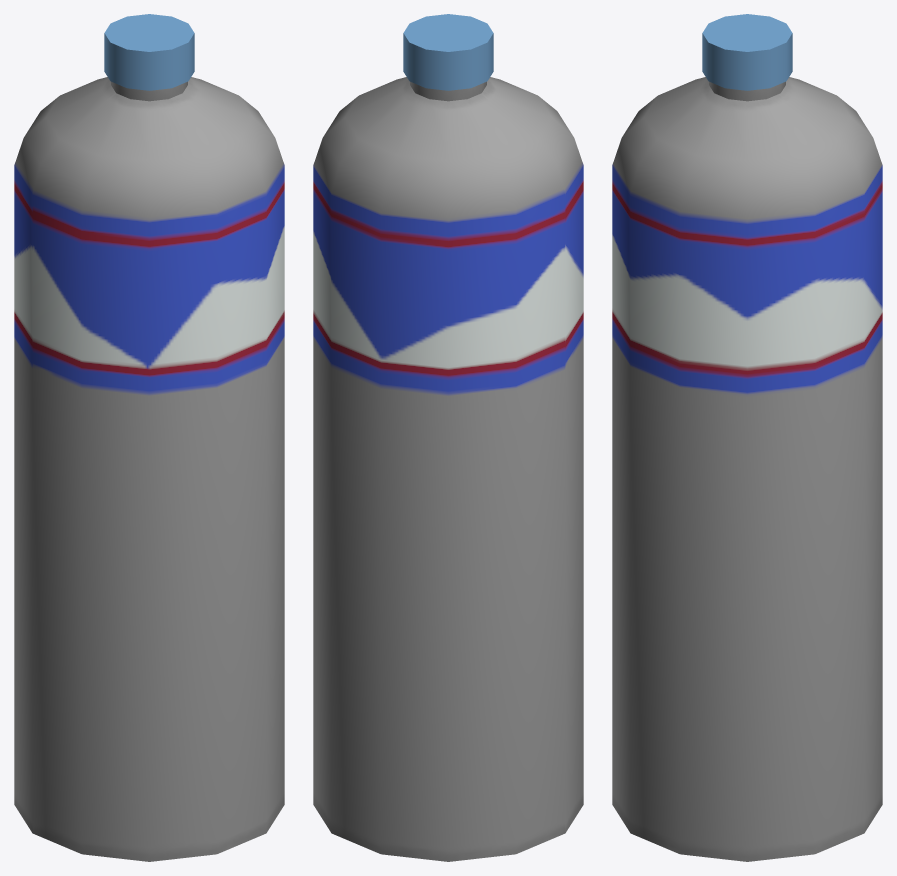
The model's file is PlasticBottle_1.fbx.
3 renders of one model, left to right at view 1: azimuth 30°, elevation 25°; view 2: azimuth 150°, elevation 25°; view 3: azimuth 270°, elevation 25°, orthographic.
Visible parts, largest first — view 1: PlasticBottle_1; view 2: PlasticBottle_1; view 3: PlasticBottle_1.
Part boxes in pixels (bbox=[...]): PlasticBottle_1: bbox=[14, 14, 284, 861]; PlasticBottle_1: bbox=[313, 14, 583, 861]; PlasticBottle_1: bbox=[612, 14, 882, 861].
Bounding box in the file's own units: 0.0648 × 0.2043 × 0.0648.
